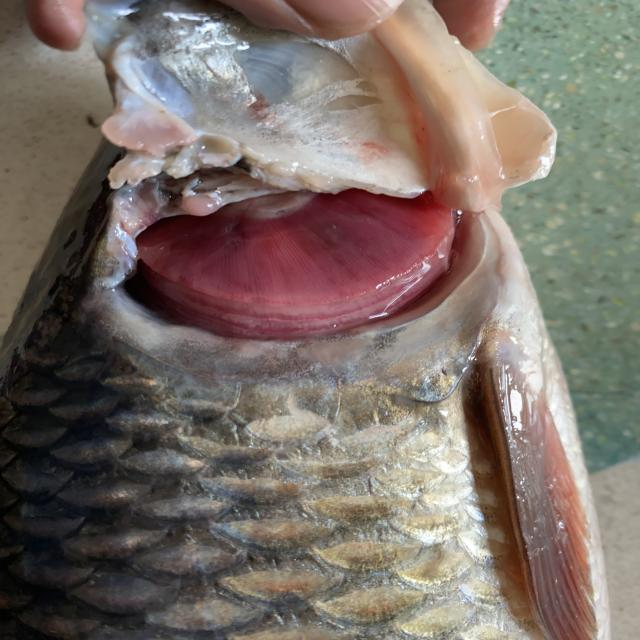Fresh: (88, 172, 486, 360)
